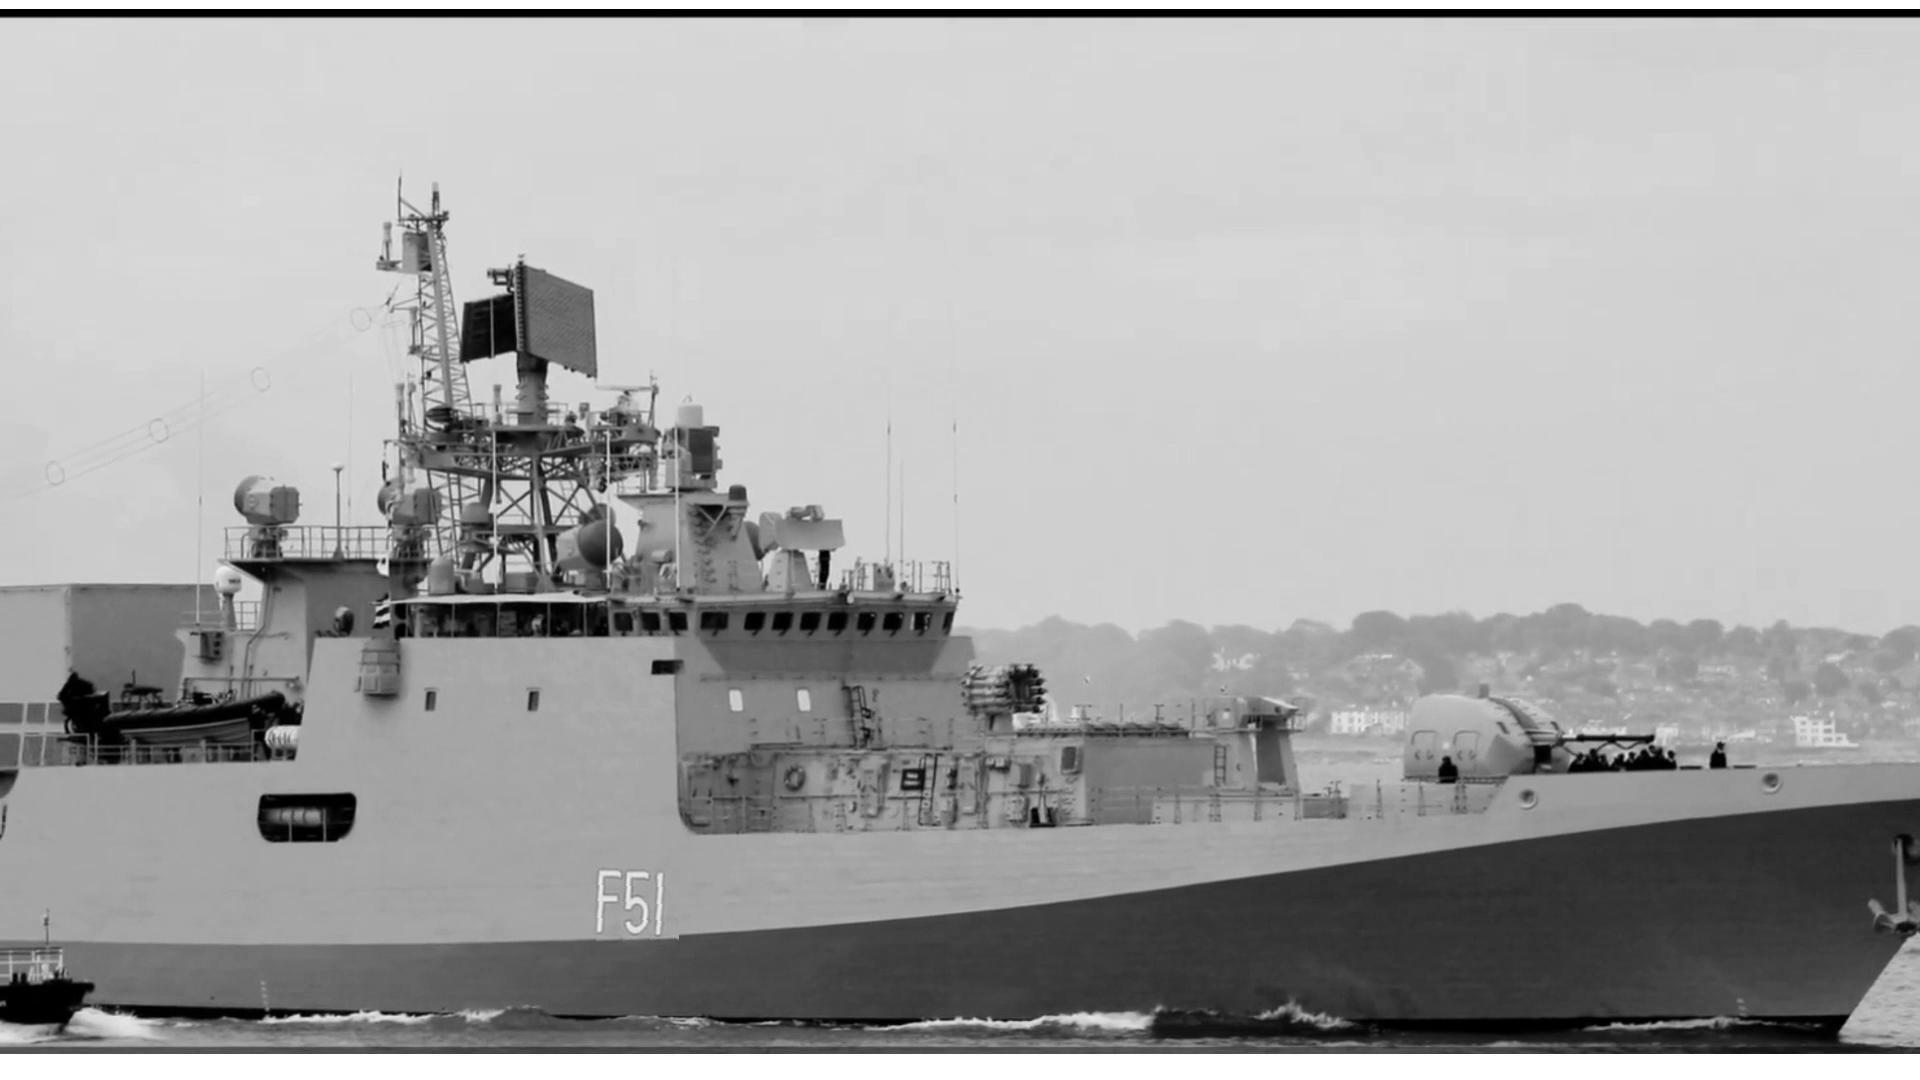OCR: (577, 858, 679, 947)
